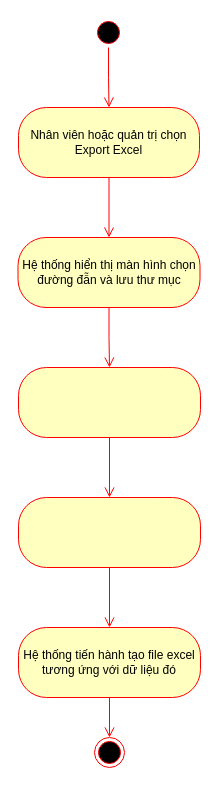
This 218x785 diagram has some shape labels left out. Here are the shapes that lost their labels. From the top down, the centre of each, then its label:
At [109,402]: "Nhân viên hoặc quản trị nhập tên file và click lưu".
At [109,532]: "Hệ thống truy vấn dữ liệu cần tạo excel".
